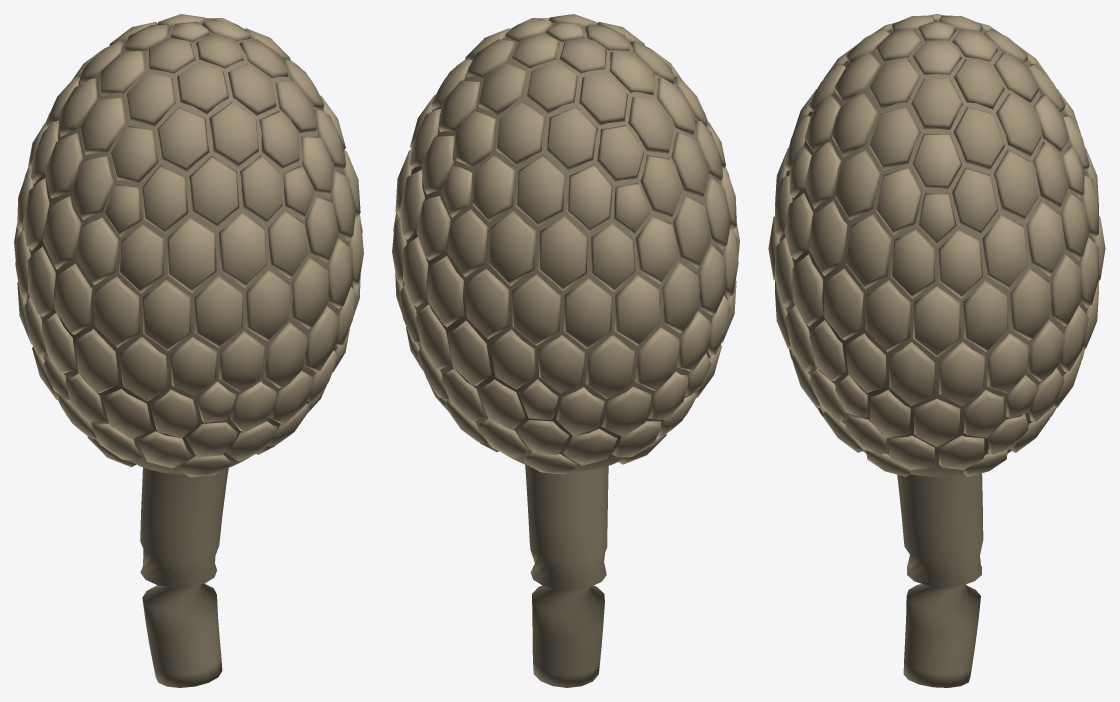
File: williamsonia.glb
3 renders of one model, left to right at view 1: azimuth 30°, elevation 25°; view 2: azimuth 150°, elevation 25°; view 3: azimuth 270°, elevation 25°, orthographic.
Visible parts, largest first — view 1: restrained interseminal surface mosaic, compact ovulate receptacle and short stalk; view 2: restrained interseminal surface mosaic, compact ovulate receptacle and short stalk; view 3: restrained interseminal surface mosaic, compact ovulate receptacle and short stalk.
Boxes of the visible parts, x1,y1,x2,y2 form: restrained interseminal surface mosaic: (14, 14, 363, 477); compact ovulate receptacle and short stalk: (22, 22, 353, 687); restrained interseminal surface mosaic: (392, 14, 739, 474); compact ovulate receptacle and short stalk: (402, 22, 731, 687); restrained interseminal surface mosaic: (768, 14, 1105, 476); compact ovulate receptacle and short stalk: (779, 20, 1094, 687).
Bounding box in the file's own units: 0.048 × 0.0965 × 0.045.
